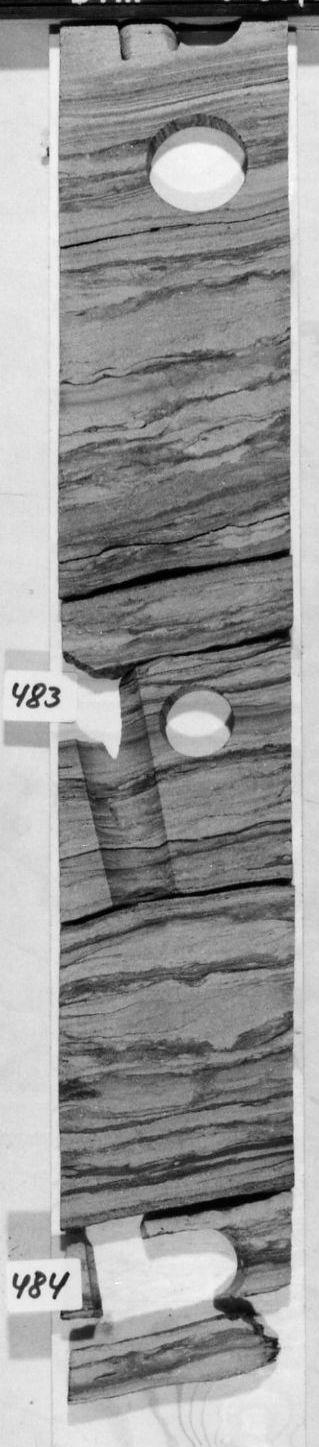hplug: (154, 679, 241, 763), (168, 1221, 246, 1303), (175, 21, 254, 52)
scal: (137, 106, 257, 215)
vplug: (69, 657, 175, 906), (76, 1210, 154, 1352), (101, 23, 186, 66)
